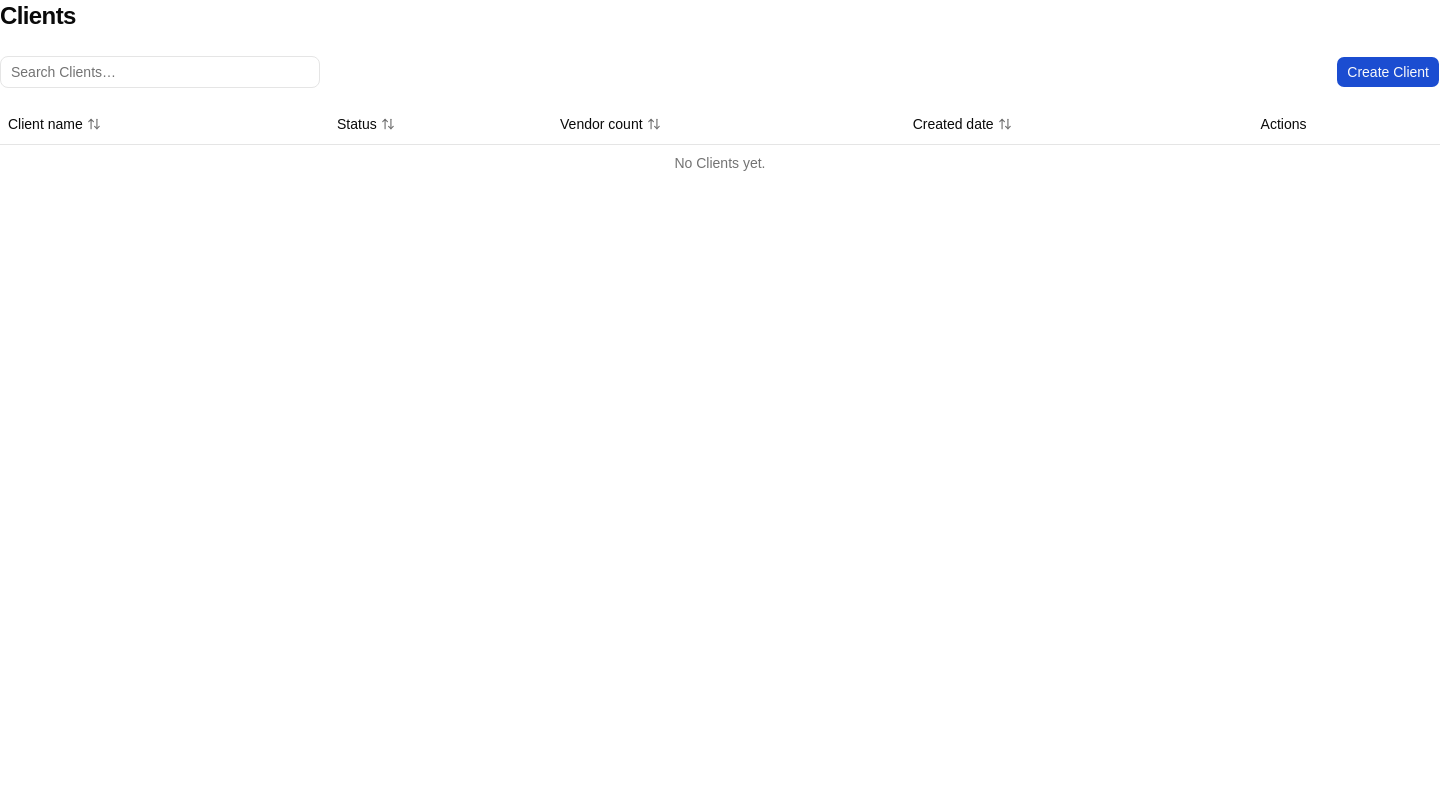
account ClientsPage › AC: Disable/Enable toggles this Client status
Click the button "Create Client" at coordinates (1388, 72), box [1336,56,1439,88]
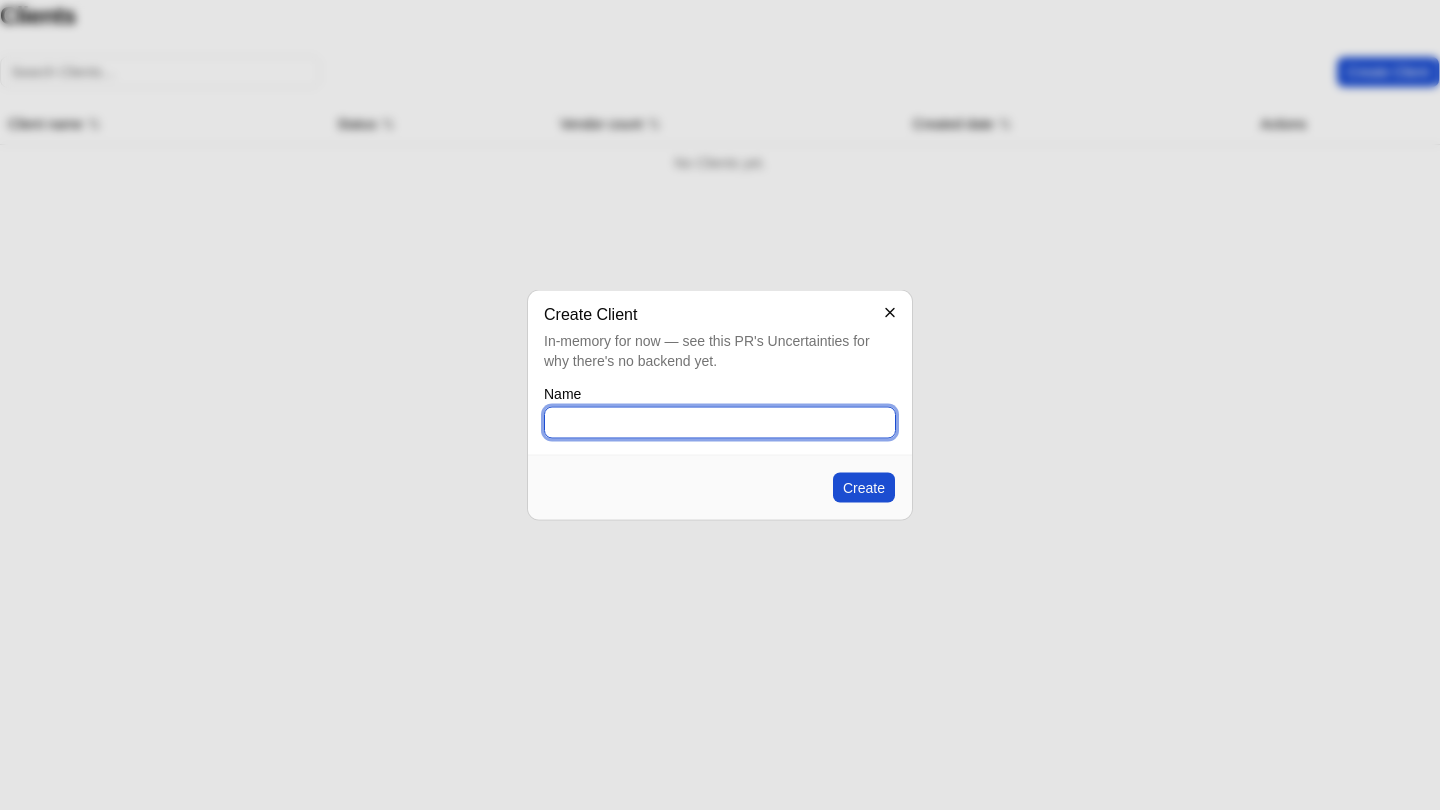
Type "Northwind Region" into the field labelled "Name" at coordinates (720, 422), box [544,406,896,438]
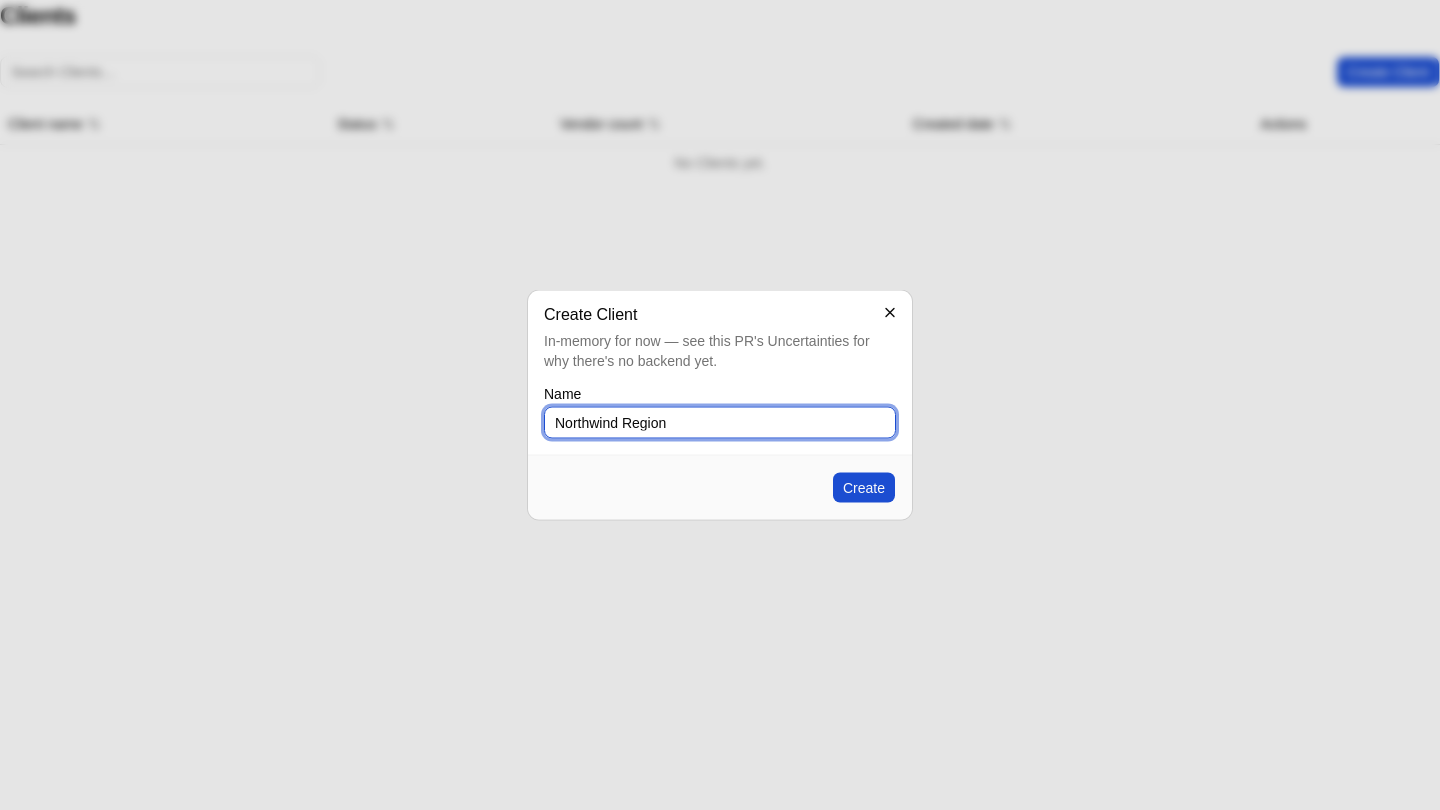
Click the button "Create" at coordinates (864, 488), box [832,472,896,504]
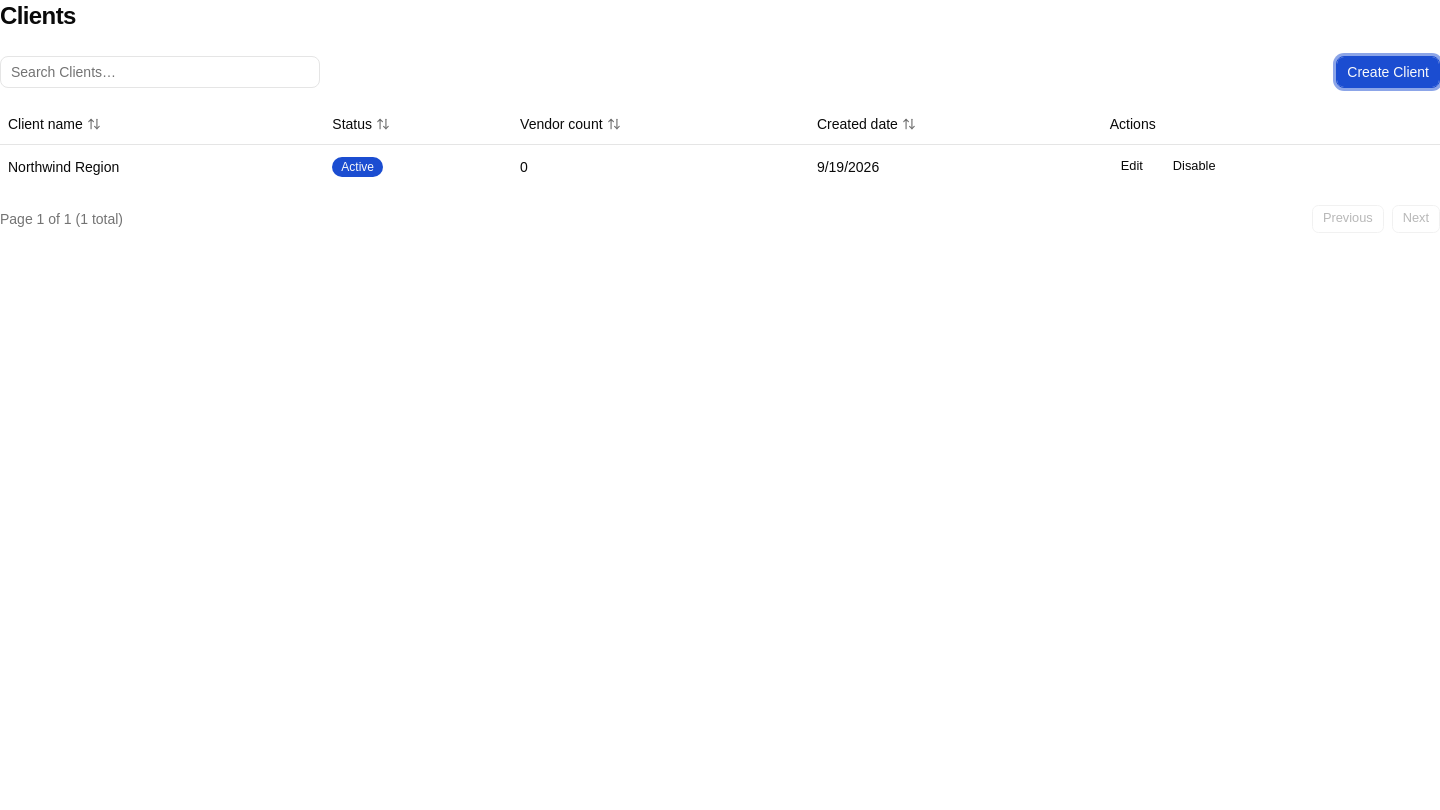
Click the button "Disable" at coordinates (1194, 166), box [1162,152,1226,180]
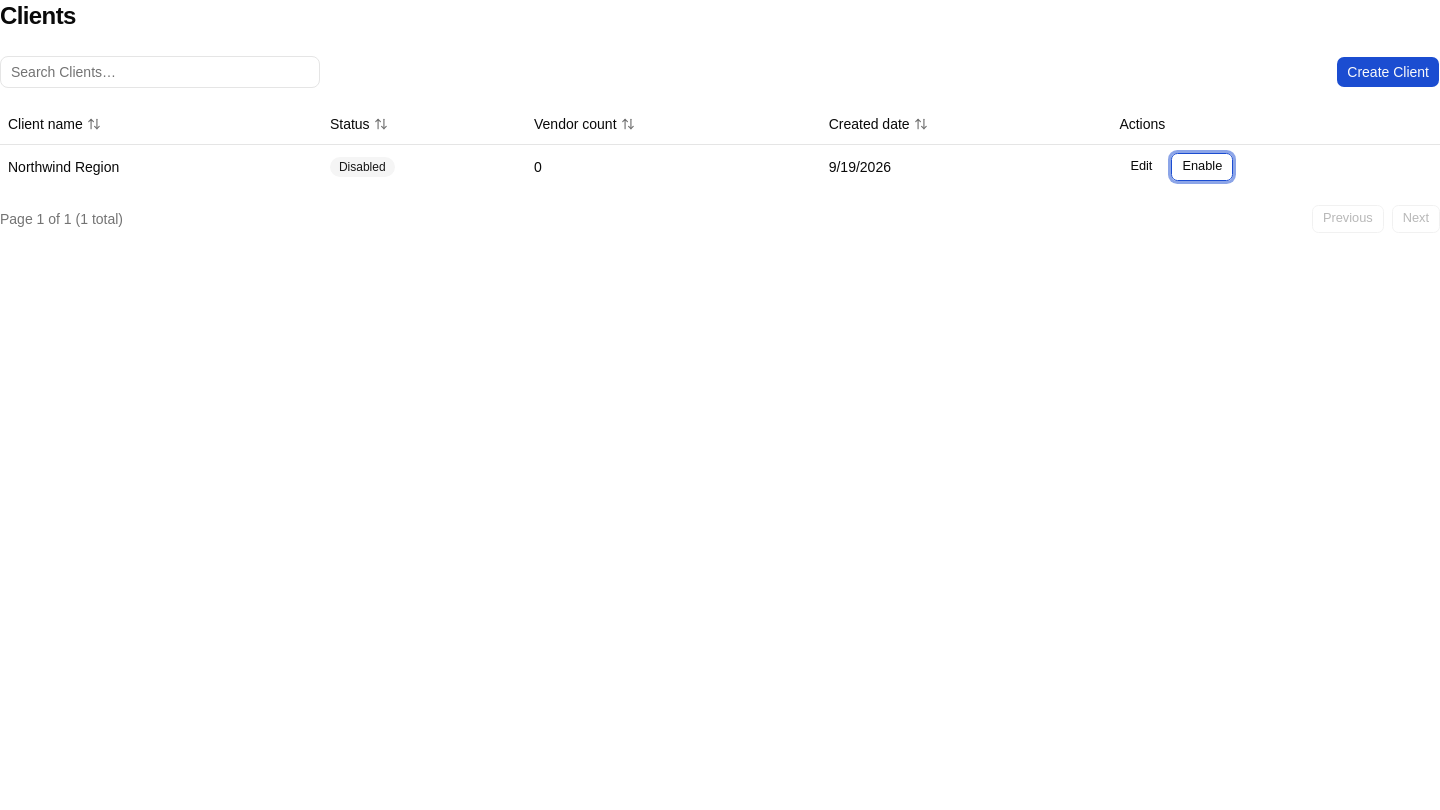
Check: the text "Disabled" is shown, box [330,157,395,177]
